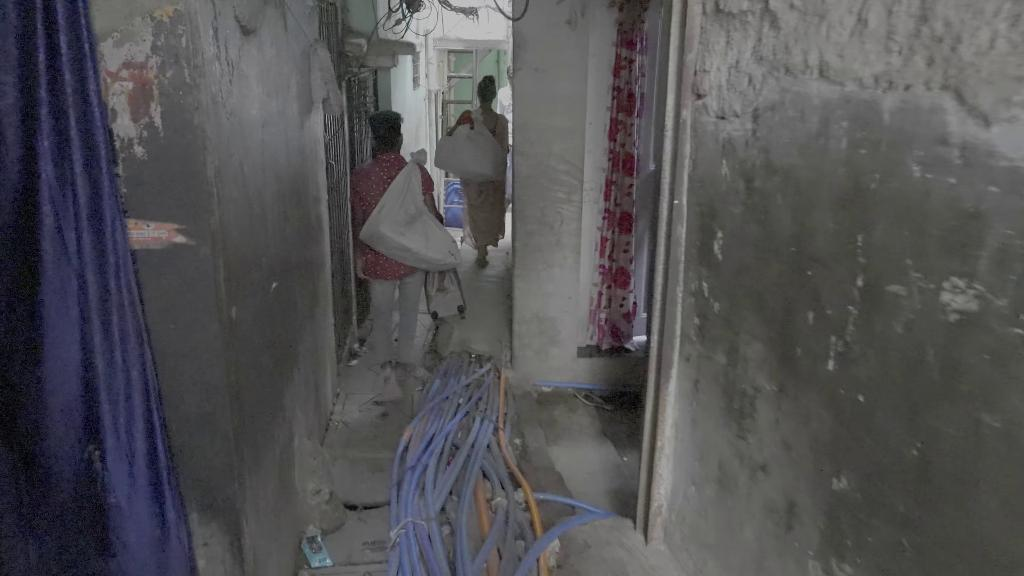garbage: (302, 533, 335, 571)
